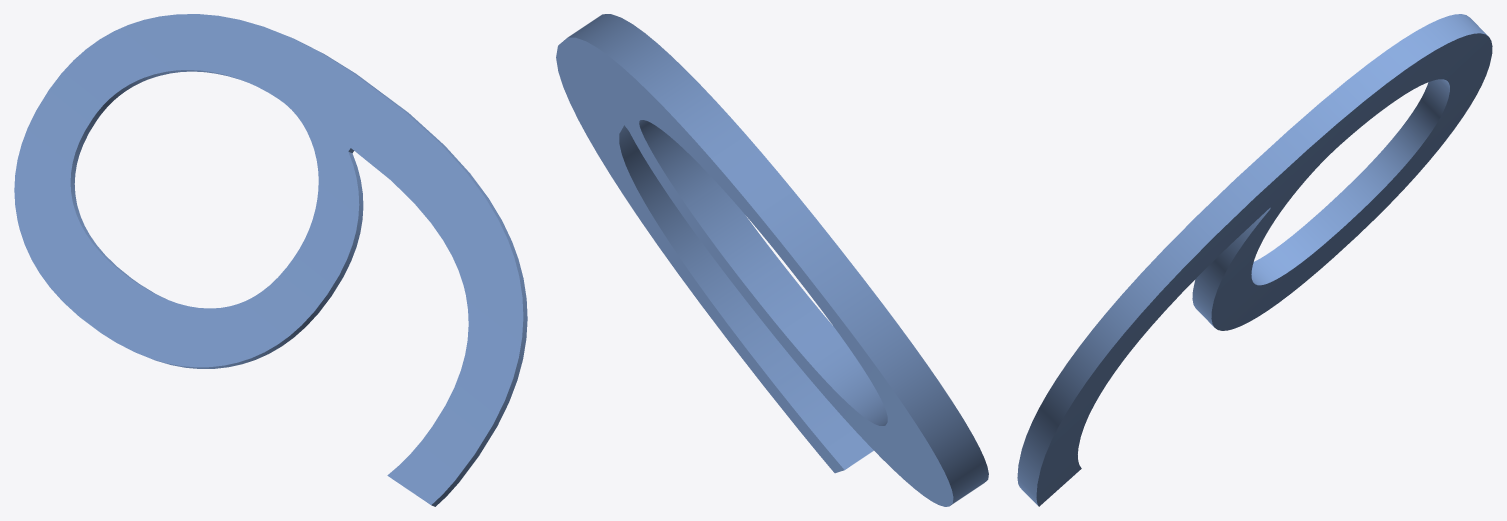
The model's file is New_Number_6.gltf.
3 renders of one model, left to right at view 1: azimuth 30°, elevation 25°; view 2: azimuth 150°, elevation 25°; view 3: azimuth 270°, elevation 25°, orthographic. The views are drawn at different scales.
Parts seen in each view (by area): view 1: Part 195; view 2: Part 195; view 3: Part 195.
Boxes of the visible parts, box(x1,y1,x2,y2) form: Part 195: box(14, 14, 527, 506); Part 195: box(556, 14, 988, 506); Part 195: box(1017, 14, 1492, 506).
Size of the model in its own units: 0.00421 by 0.0043 by 0.00424.
